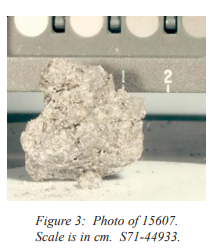Basalt: (16, 55, 152, 188)
